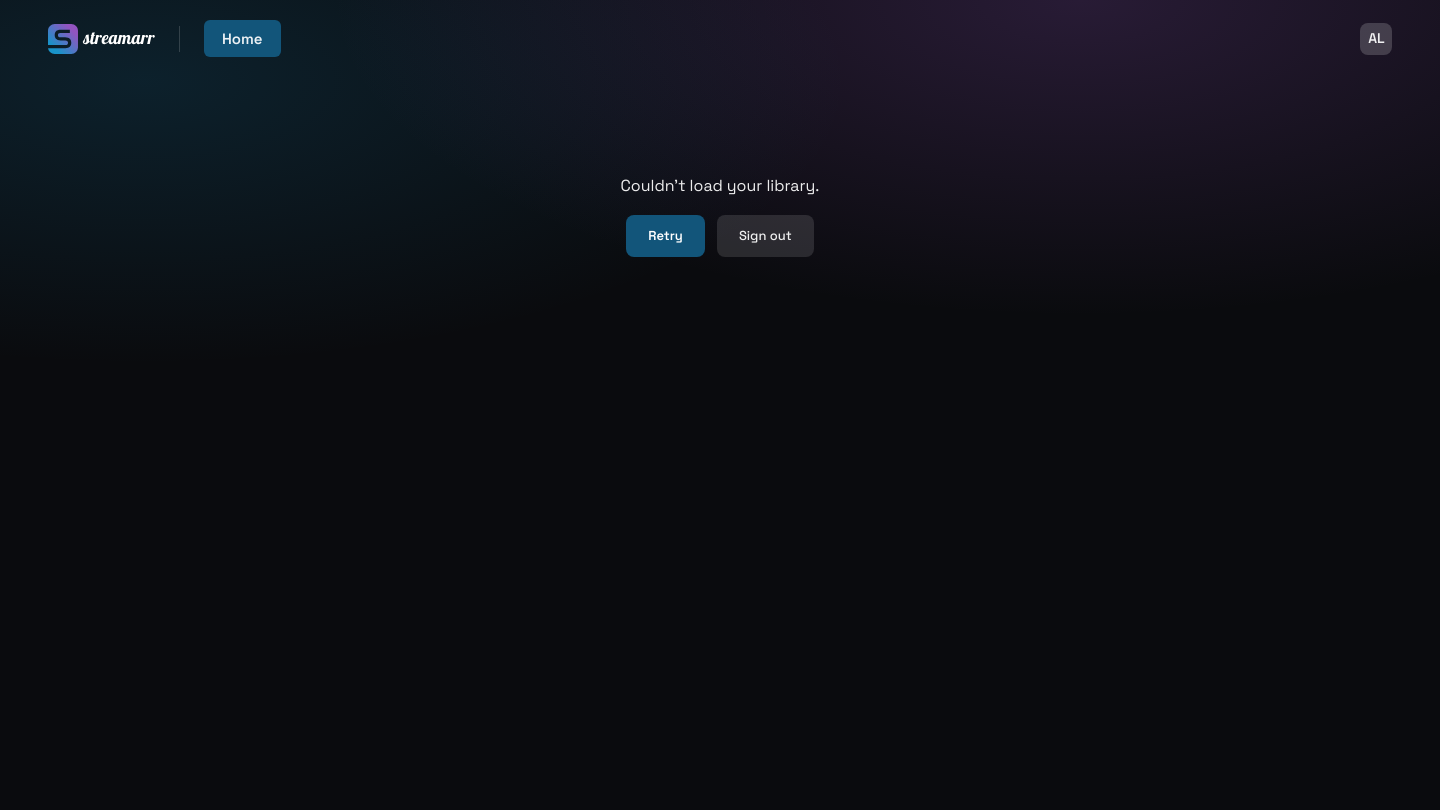
/select-profile › shouldOpenTheGateDirectlyFromTheMenuChoice
Click the button with aria-label "profile menu (alex)" at (1376, 39), box [1360, 23, 1392, 55]
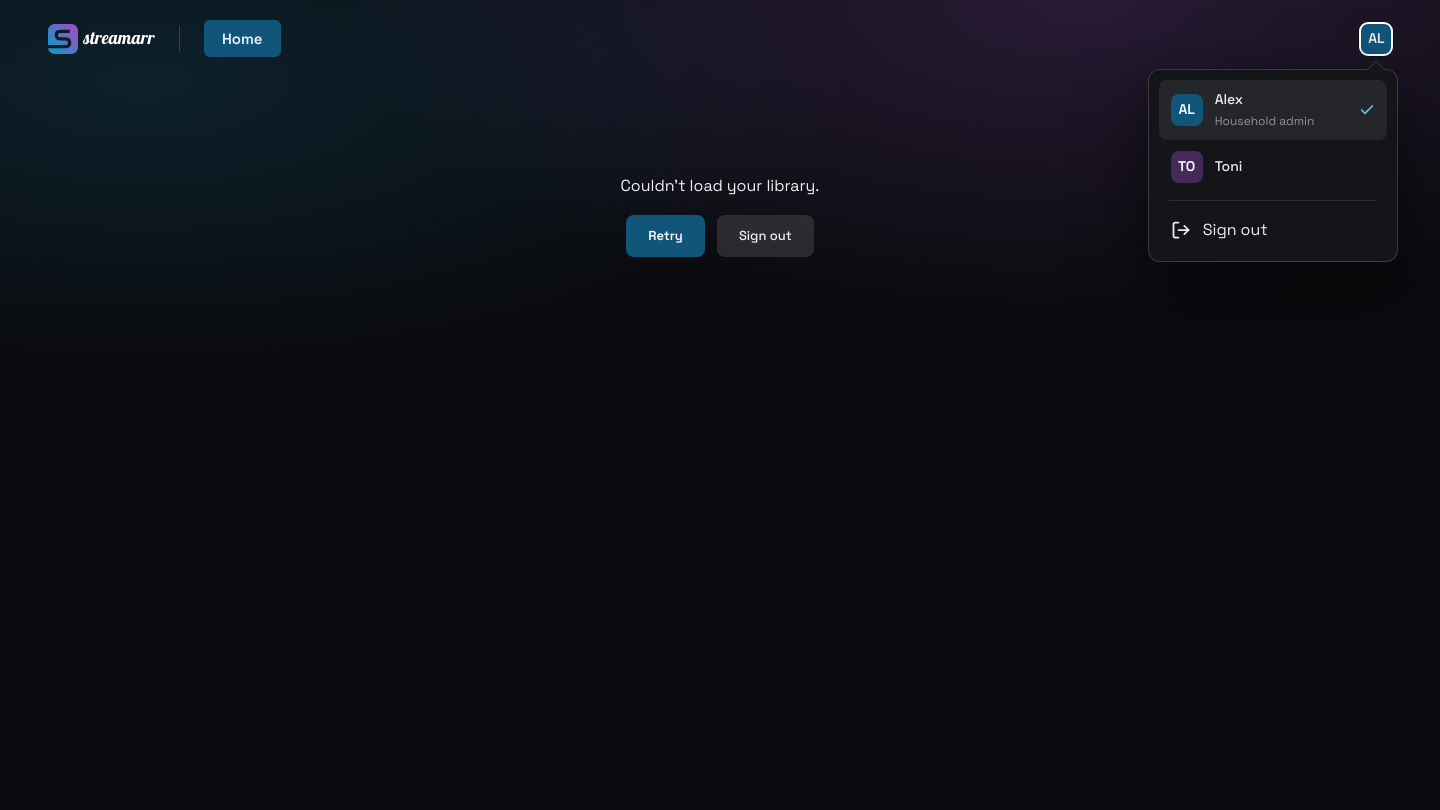
Click the button with aria-label "toni (pin protected)" at (1273, 167), box [1159, 142, 1387, 192]
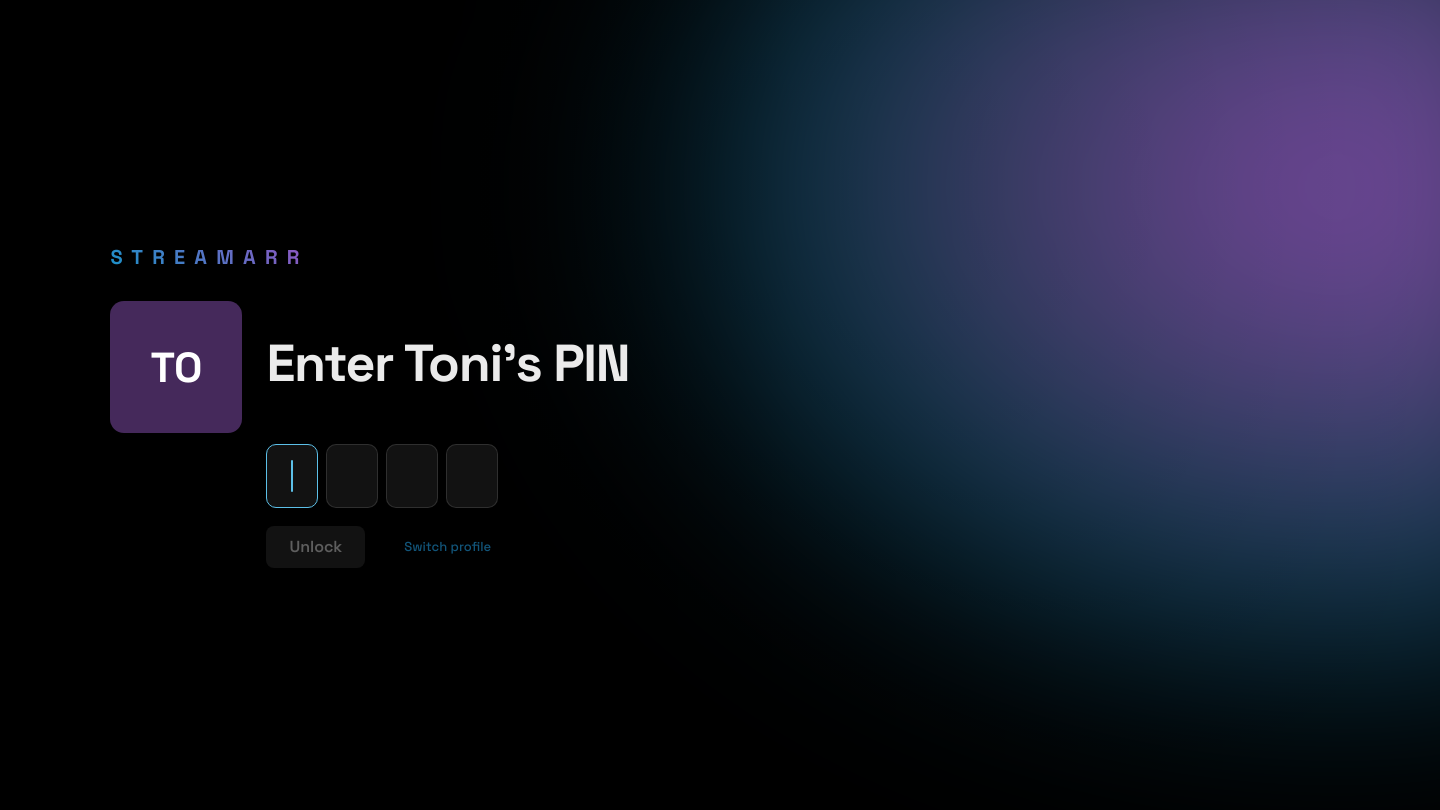
Expected: the heading "Enter Toni’s PIN" is shown, [266, 330, 629, 396]
